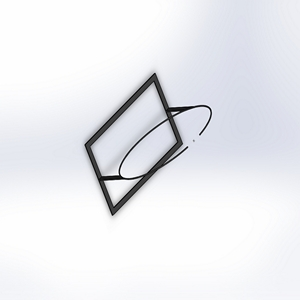circle: (84, 71, 212, 217)
